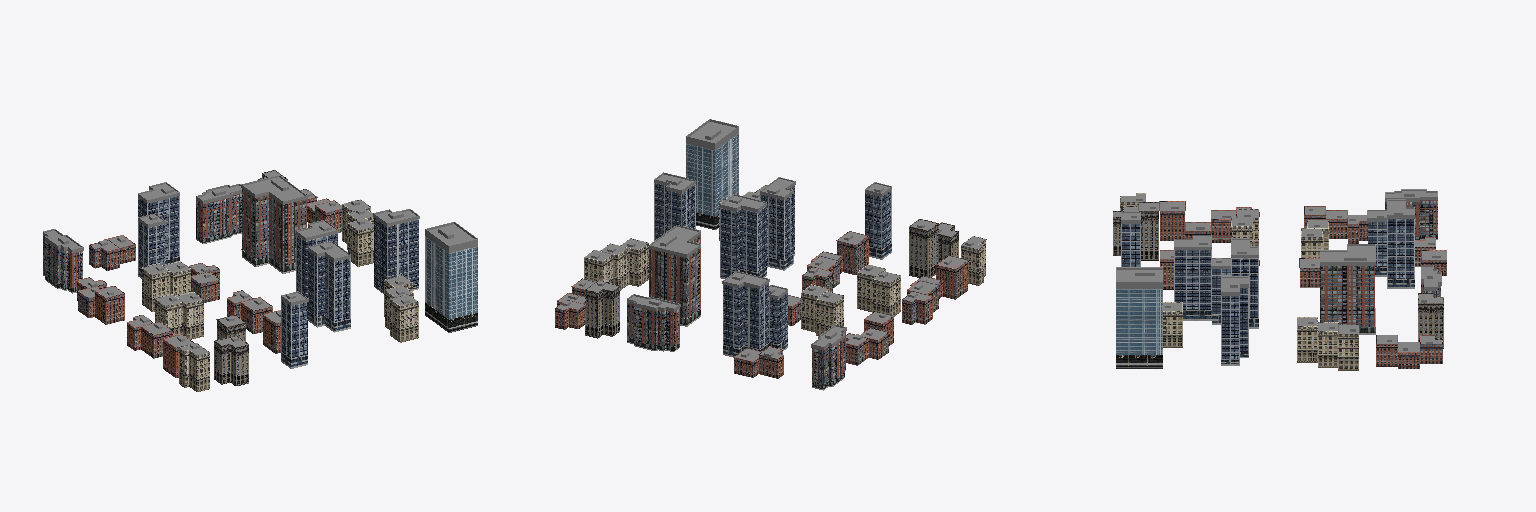
3 renders of one model, left to right at view 1: azimuth 30°, elevation 25°; view 2: azimuth 150°, elevation 25°; view 3: azimuth 270°, elevation 25°, orthographic.
Parts seen in each view (by area): view 1: Building_271_2, building_of_type_6_2, Building_013_2, Building_272_2, Building_308_2, Building_295_2, Building_263_2, Building_296_2, Building_287_2, Building_274_2, building_of_type_6_1, Building_304_2 (+4 smaller); view 2: building_of_type_6_2, Building_274_2, Building_271_2, Building_295_2, Building_013_2, Building_272_2, Building_308_2, Building_263_2, Building_287_2, Building_296_2, Building_264_2, Building_305_2 (+5 smaller); view 3: Building_271_2, building_of_type_6_2, Building_272_2, Building_013_2, Building_295_2, Building_274_2, Building_308_2, Building_296_2, building_of_type_6_1, Building_264_2, Building_287_2, Building_271_4 (+2 smaller).
Boxes of the visible parts, <box> form: Building_271_2: <box>242,189,306,265</box>; building_of_type_6_2: <box>425,236,477,318</box>; Building_013_2: <box>374,218,418,287</box>; Building_272_2: <box>308,251,350,321</box>; Building_308_2: <box>281,299,307,358</box>; Building_295_2: <box>138,196,179,259</box>; Building_263_2: <box>196,202,241,238</box>; Building_296_2: <box>138,221,164,268</box>; Building_287_2: <box>43,244,82,287</box>; Building_274_2: <box>296,234,337,297</box>; building_of_type_6_1: <box>425,302,477,332</box>; Building_304_2: <box>214,350,248,374</box>; building_of_type_6_2: <box>686,134,738,216</box>; Building_274_2: <box>720,206,766,272</box>; Building_271_2: <box>649,235,700,318</box>; Building_295_2: <box>723,283,768,348</box>; Building_013_2: <box>654,183,695,240</box>; Building_272_2: <box>760,186,794,259</box>; Building_308_2: <box>865,190,891,249</box>; Building_263_2: <box>627,311,679,346</box>; Building_287_2: <box>812,340,845,384</box>; Building_296_2: <box>769,293,787,344</box>; Building_264_2: <box>586,296,619,326</box>; Building_305_2: <box>909,233,937,267</box>; Building_271_2: <box>1320,266,1374,326</box>; building_of_type_6_2: <box>1116,289,1162,354</box>; Building_272_2: <box>1174,250,1211,309</box>; Building_013_2: <box>1221,288,1248,359</box>; Building_295_2: <box>1387,219,1414,278</box>; Building_274_2: <box>1231,258,1258,317</box>; Building_308_2: <box>1121,224,1140,266</box>; Building_296_2: <box>1368,222,1386,266</box>; building_of_type_6_1: <box>1116,355,1162,368</box>; Building_264_2: <box>1418,313,1443,337</box>; Building_287_2: <box>1415,209,1437,235</box>; Building_271_4: <box>1320,246,1374,261</box>.
Size of the model in its own units: 873 by 255 by 876.
19 materials, 16 textured.